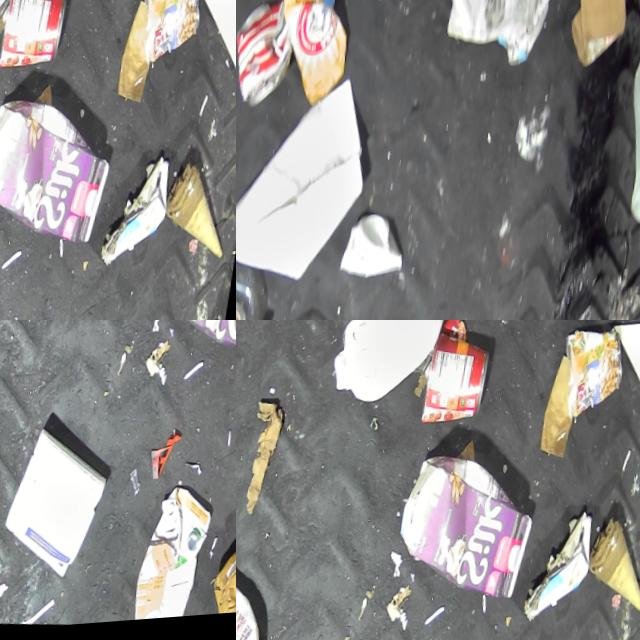can: (236, 0, 301, 116), (555, 333, 631, 432), (421, 334, 495, 435), (0, 0, 73, 86)
milk_jug: (327, 320, 461, 415), (613, 27, 640, 242)
non_white_jug: (395, 448, 546, 614), (139, 489, 223, 626), (236, 548, 290, 640)
